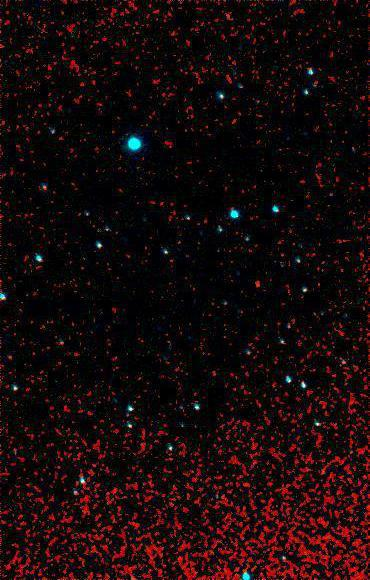star: (241, 268, 271, 298)
